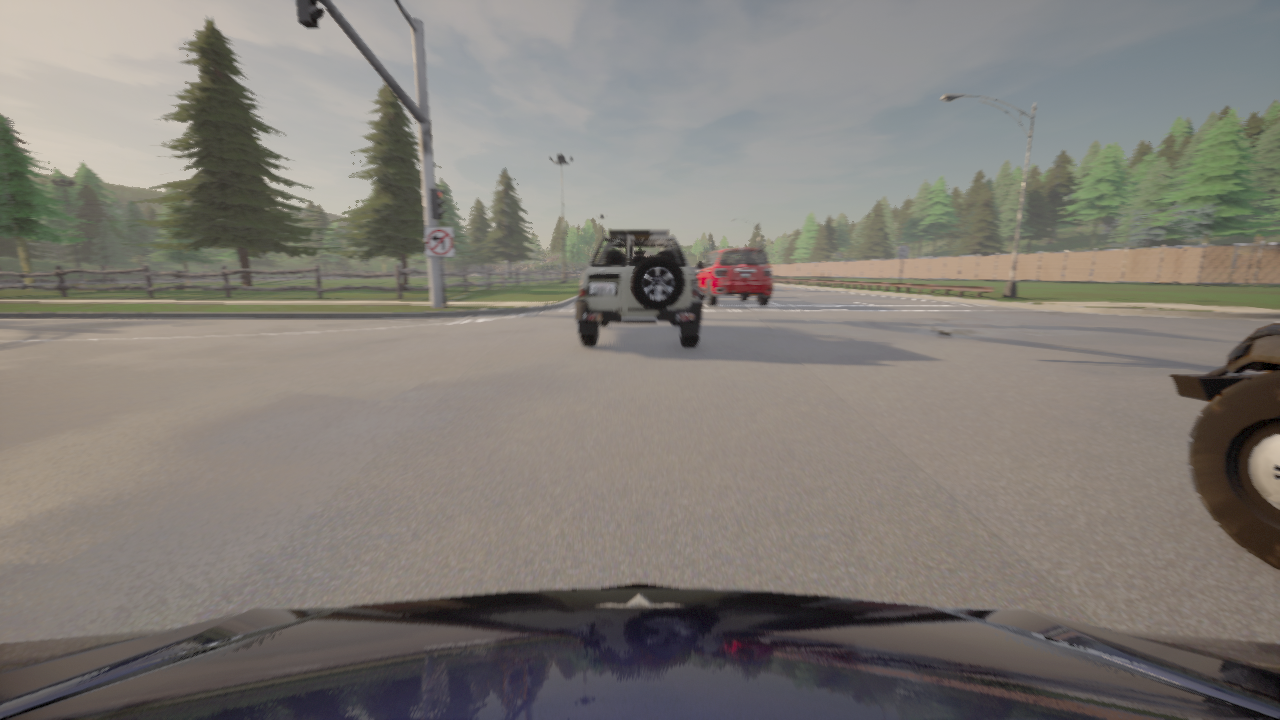cyclist: (0, 584, 1279, 719), (1170, 324, 1279, 570), (575, 231, 702, 346), (697, 248, 772, 306), (692, 268, 702, 278)
